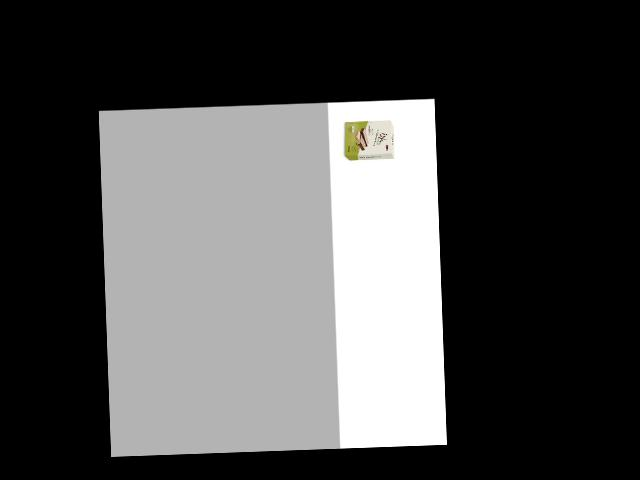chocolate: (342, 119, 395, 163)
